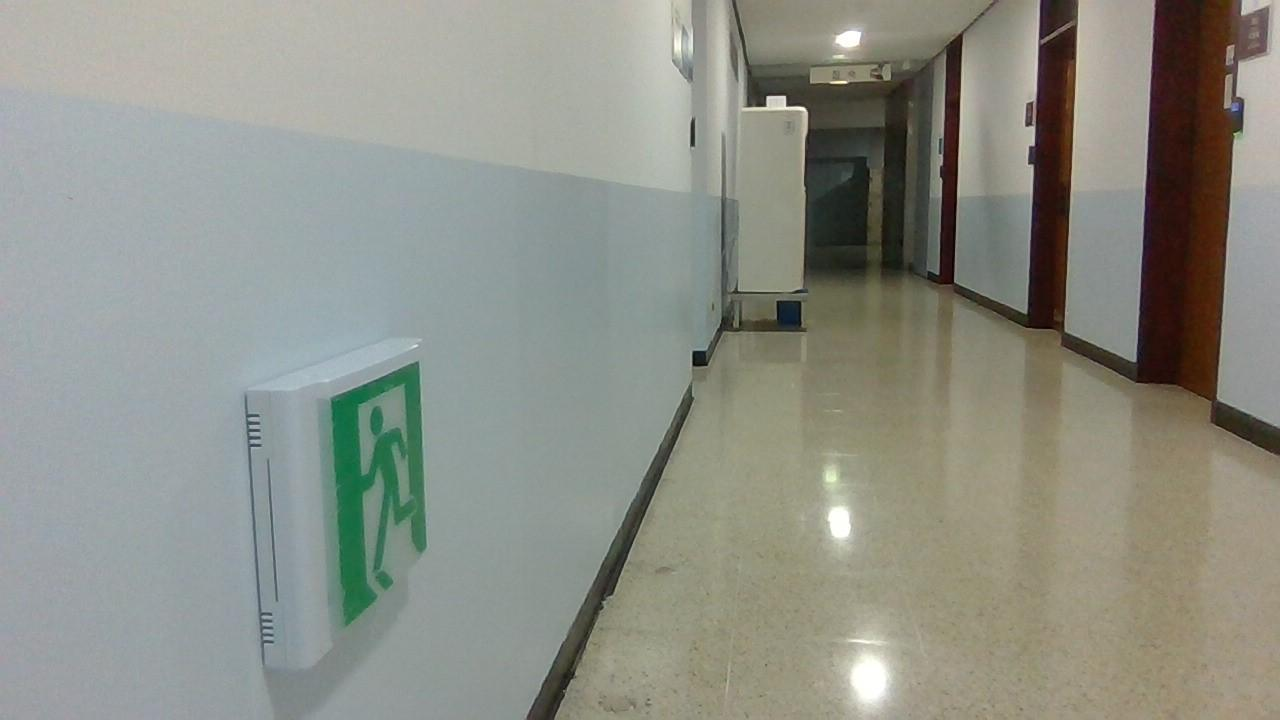emergency_exit: (243, 335, 430, 672), (808, 61, 893, 85)
